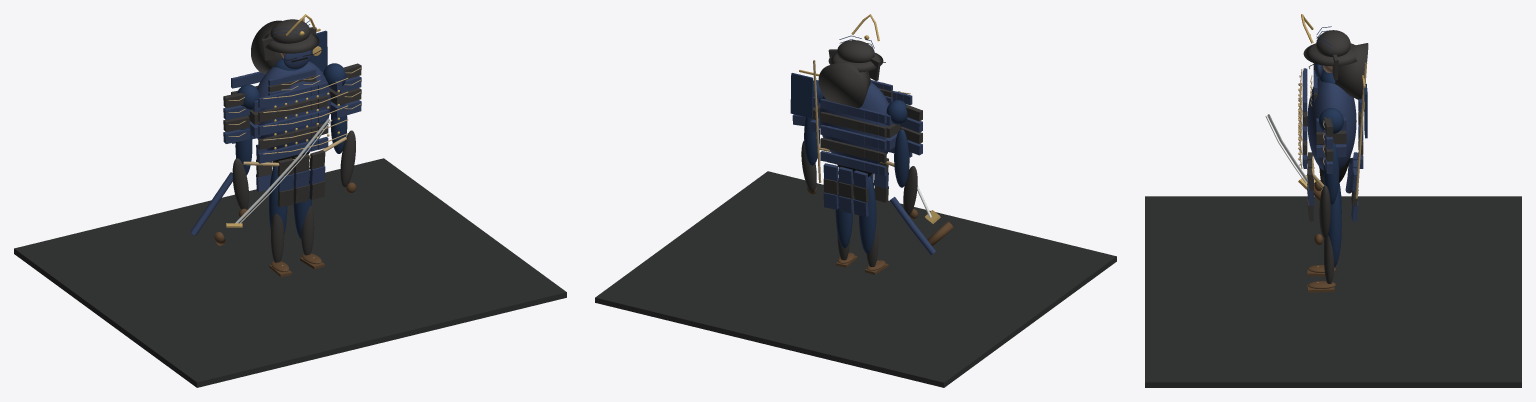
The model's file is actor-uesugi-07.glb.
3 renders of one model, left to right at view 1: azimuth 30°, elevation 25°; view 2: azimuth 150°, elevation 25°; view 3: azimuth 270°, elevation 25°, orthographic. The views are drawn at different scales.
Parts seen in each view (by area): view 1: matte charcoal inspection plinth, rounded do cuirass silhouette, rear shikoro neck guard flare, segmented kabuto helmet bowl, right kote forearm guard, left kote forearm guard, wide kabuto brim, left shin greave, left hakama trouser leg, lacquered saya scabbard at left hip, right shin greave, right armored upper arm; view 2: matte charcoal inspection plinth, rear shikoro neck guard flare, rounded do cuirass silhouette, cloth sashimono banner panel, left hakama trouser leg, left armored upper arm, segmented kabuto helmet bowl, right hakama trouser leg, left kote forearm guard, right armored upper arm, lacquered saya scabbard at left hip; view 3: matte charcoal inspection plinth, rounded do cuirass silhouette, rear shikoro neck guard flare, segmented kabuto helmet bowl, right hakama trouser leg, wide kabuto brim, right armored upper arm, right kote forearm guard, right shin greave, right shoulder undercloth, bamboo sashimono back pole.
Part boxes in pixels (x1,y1,x2,y2): matte charcoal inspection plinth: (14,158,566,387); rounded do cuirass silhouette: (257,61,330,150); rear shikoro neck guard flare: (251,20,282,74); segmented kabuto helmet bowl: (270,19,310,43); right kote forearm guard: (340,130,355,186); left kote forearm guard: (232,158,248,209); wide kabuto brim: (261,33,319,53); left shin greave: (271,213,284,262); left hakama trouser leg: (269,166,287,234); lacquered saya scabbard at left hip: (190,172,232,235); right shin greave: (301,205,314,255); right armored upper arm: (330,104,347,153); matte charcoal inspection plinth: (595,171,1116,387); rear shikoro neck guard flare: (818,61,870,108); rounded do cuirass silhouette: (819,82,888,163); cloth sashimono banner panel: (790,73,813,118); left hakama trouser leg: (859,176,876,253); left armored upper arm: (894,129,909,187); segmented kabuto helmet bowl: (837,40,874,62); right hakama trouser leg: (835,180,852,248); left kote forearm guard: (903,166,917,215); right armored upper arm: (804,117,819,165); lacquered saya scabbard at left hip: (889,197,935,254); matte charcoal inspection plinth: (1145,196,1521,387); rounded do cuirass silhouette: (1307,78,1356,170); rear shikoro neck guard flare: (1335,43,1368,99); segmented kabuto helmet bowl: (1316,30,1350,56); right hakama trouser leg: (1328,189,1341,267); wide kabuto brim: (1303,43,1356,66); right armored upper arm: (1323,142,1339,204); right kote forearm guard: (1319,185,1330,238); right shin greave: (1324,235,1334,283); right shoulder undercloth: (1319,108,1343,134); bamboo sashimono back pole: (1355,62,1367,198).
Size of the model in its own units: 4.2 by 2.96 by 3.6.
